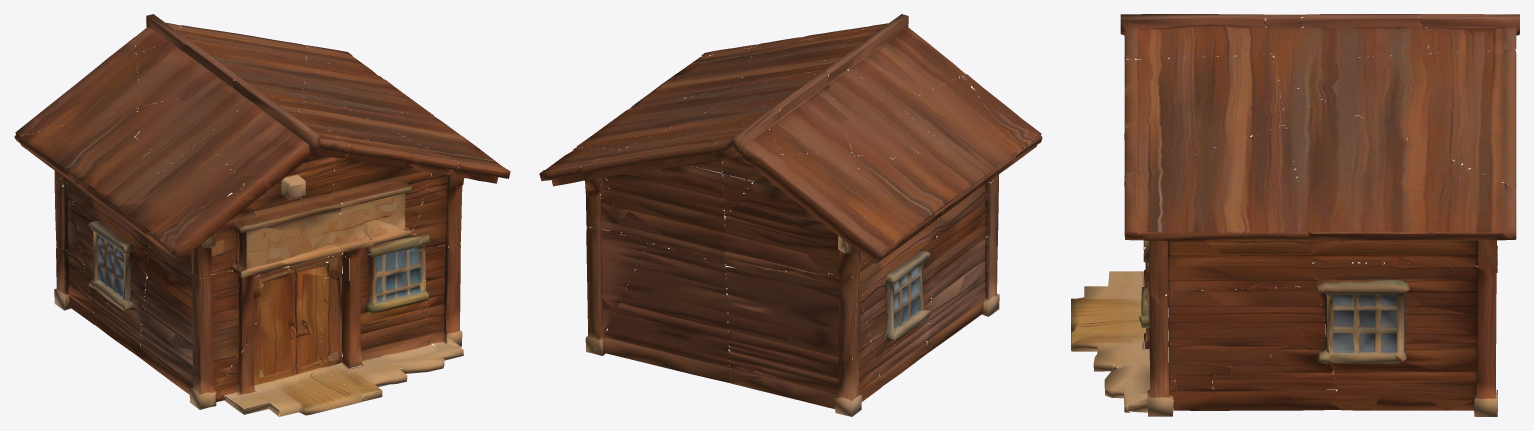
The model's file is cabana.glb.
The picture shows the model from 3 angles, left to right: view 1: azimuth 30°, elevation 25°; view 2: azimuth 150°, elevation 25°; view 3: azimuth 270°, elevation 25°; orthographic projection. The views are drawn at different scales.
Parts seen in each view (by area): view 1: tripo_node_877c2610-f346-4abc-bc38-6f0d167c92f9; view 2: tripo_node_877c2610-f346-4abc-bc38-6f0d167c92f9; view 3: tripo_node_877c2610-f346-4abc-bc38-6f0d167c92f9.
Part boxes in pixels (bbox=[...]): tripo_node_877c2610-f346-4abc-bc38-6f0d167c92f9: bbox=[14, 14, 510, 416]; tripo_node_877c2610-f346-4abc-bc38-6f0d167c92f9: bbox=[539, 14, 1042, 416]; tripo_node_877c2610-f346-4abc-bc38-6f0d167c92f9: bbox=[1071, 14, 1519, 416].
Size of the model in its own units: 1 by 0.7308 by 0.9598.
1 material, 1 textured.
